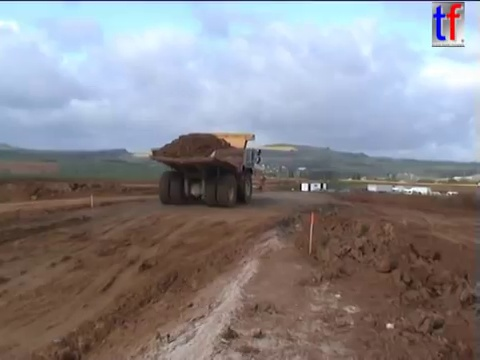truck: (147, 130, 262, 207)
